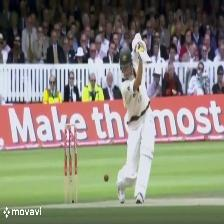ball: (101, 171, 111, 184)
batsman: (115, 34, 158, 206)
